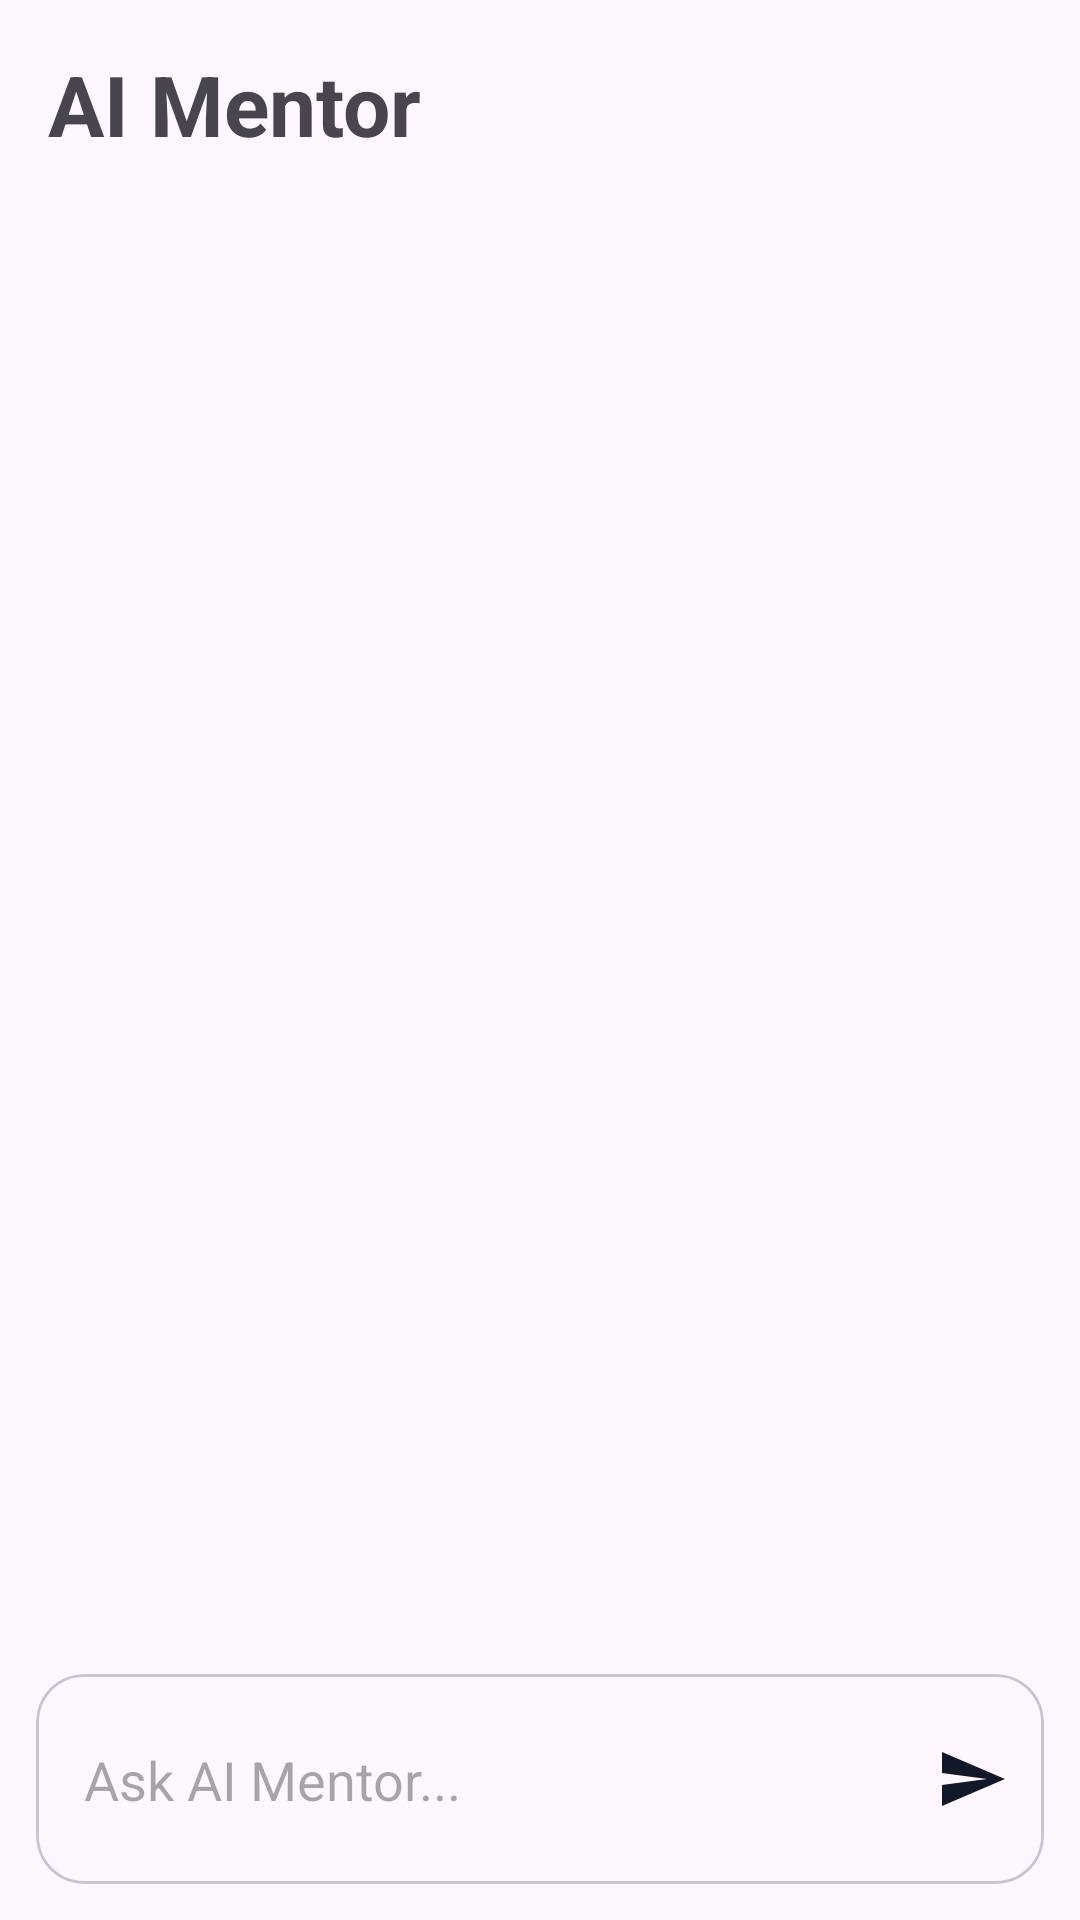

Screen size 1080px×1920px. Icon name, then its box in pixels as (x1, y1, x2, y2):
send: (942, 1752, 1005, 1806)
